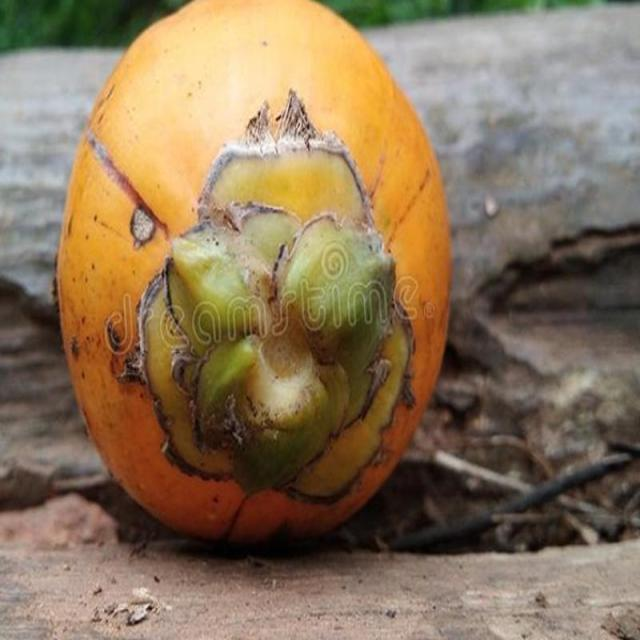good: (54, 0, 452, 554)
